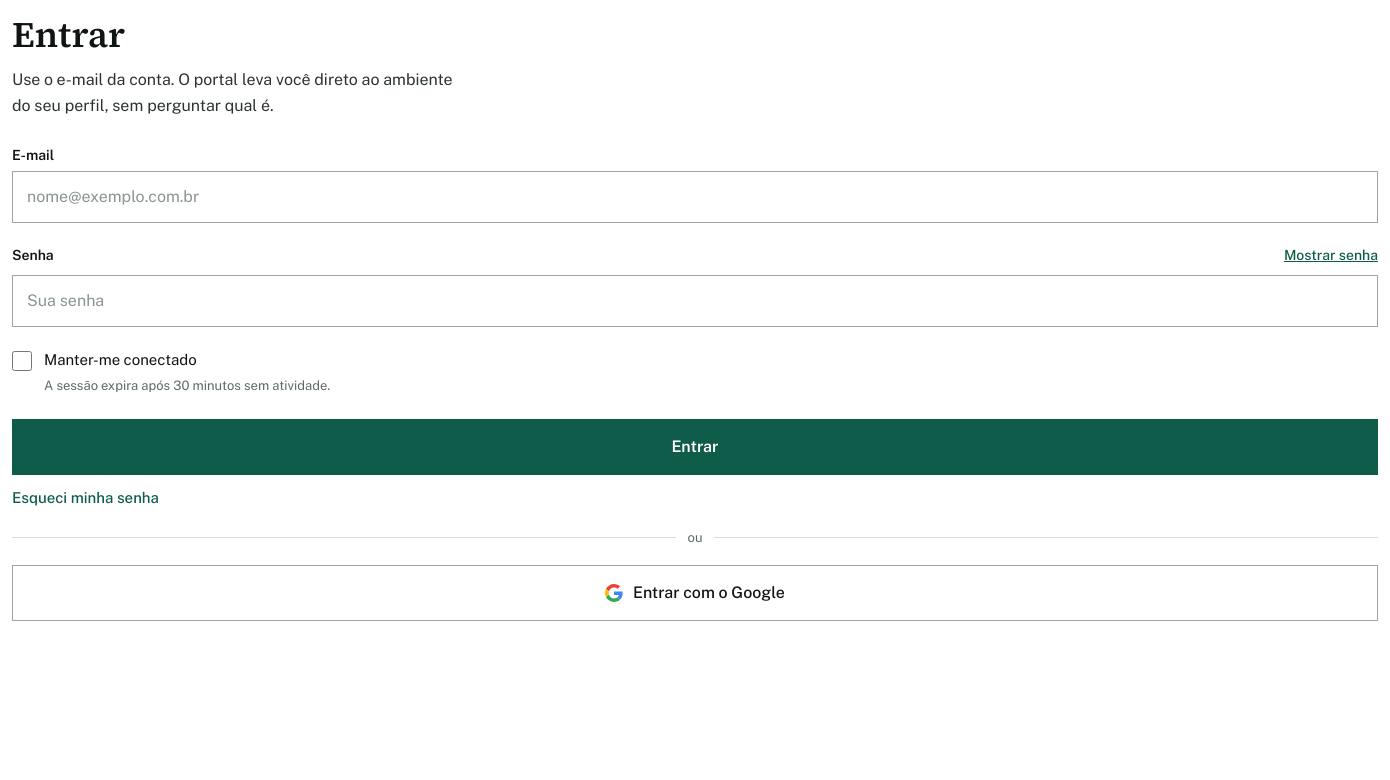
Scenario: LoginForm › alterna a visibilidade da senha
Click the button "Mostrar senha".
click(1331, 255)  # box [1284,241,1378,269]
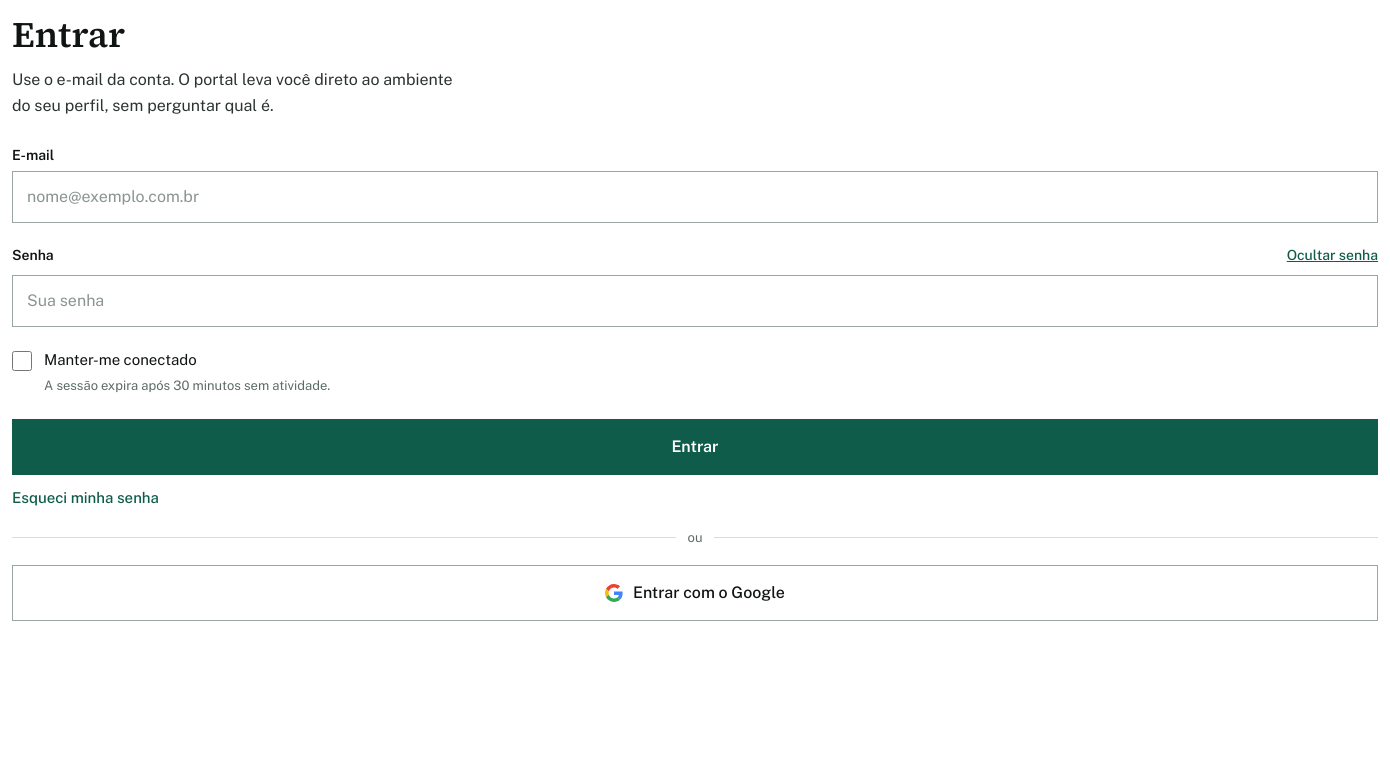
Expected: the text "Ocultar senha" is shown, [1287,241,1378,269]
